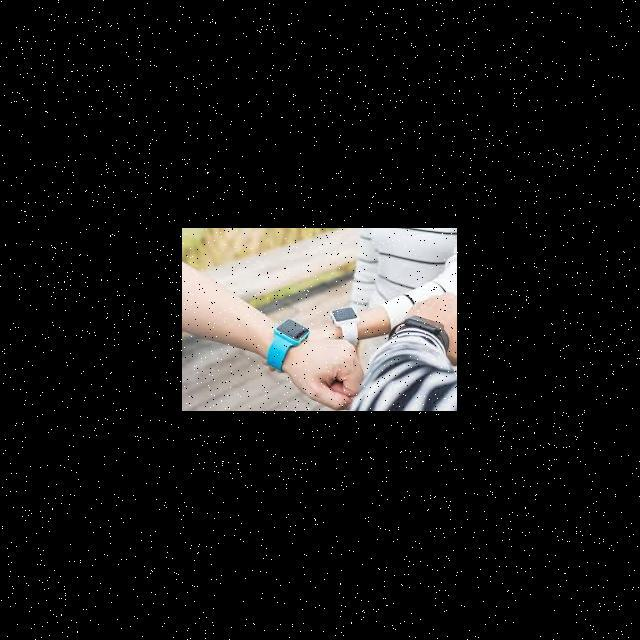watch: (253, 298, 315, 382), (393, 308, 460, 338), (332, 298, 365, 354)
